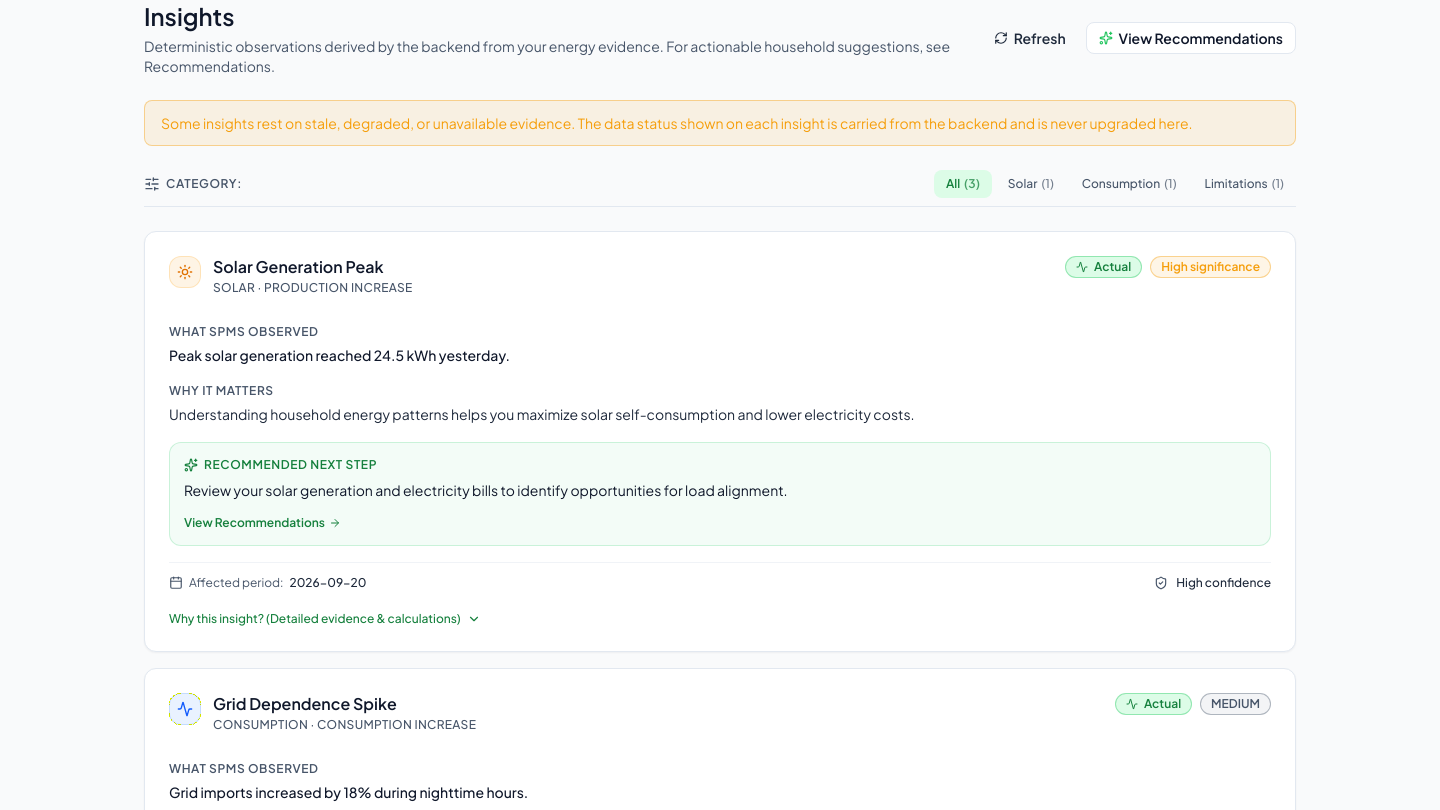
Scenario: InsightsPage › allows manual refresh via header button
Expected: the heading "Solar Generation Peak" is shown, x1=213 y1=256 x2=413 y2=278
What coordinates should you click on to do the following:
click the button with aria-label "refresh insights"
I would click on:
 (1030, 38)
Its box is x1=982 y1=22 x2=1078 y2=54.
(page scrolled)
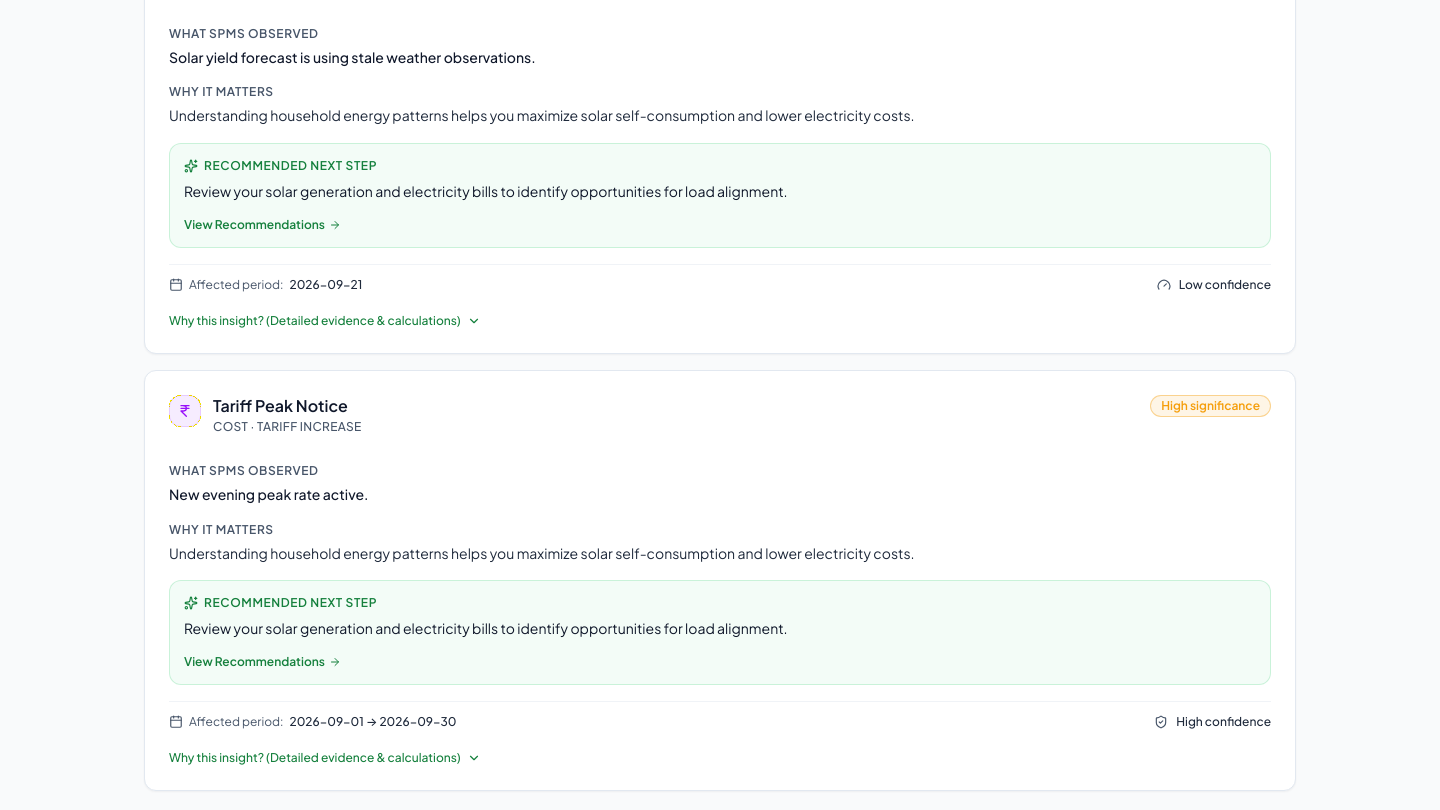
Expected: the heading "Tariff Peak Notice" is shown, x1=213 y1=395 x2=362 y2=417
